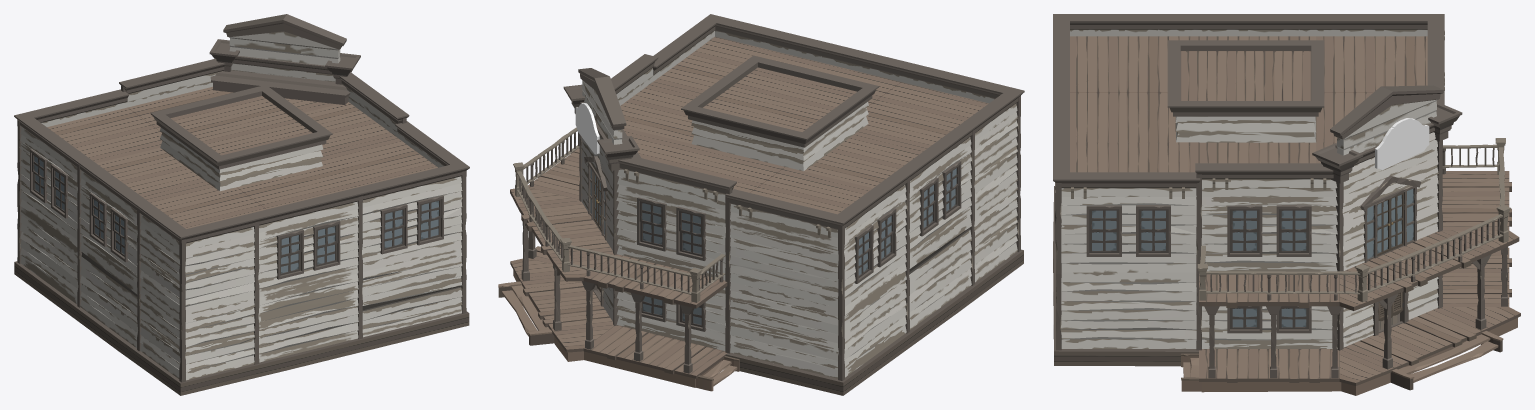
The model's file is Hotel.glb.
The picture shows the model from 3 angles, left to right: view 1: azimuth 30°, elevation 25°; view 2: azimuth 150°, elevation 25°; view 3: azimuth 270°, elevation 25°; orthographic projection. The views are drawn at different scales.
Parts seen in each view (by area): view 1: Hotel, SM_Bld_Saloon_Glass; view 2: Hotel, SM_Bld_Saloon_Glass, SM_Bld_Sign_02; view 3: Hotel, SM_Bld_Saloon_Glass, SM_Bld_Sign_02, SM_Bld_Saloon_UpstairsDoor_02, SM_Bld_Saloon_UpstairsDoor_01_Glass, SM_Bld_Saloon_UpstairsDoor_02_Glass.
Boxes of the visible parts, <box> form: Hotel: <box>14,14,469,395</box>; SM_Bld_Saloon_Glass: <box>34,156,438,273</box>; Hotel: <box>498,14,1024,395</box>; SM_Bld_Saloon_Glass: <box>590,168,956,324</box>; SM_Bld_Sign_02: <box>575,103,599,154</box>; Hotel: <box>1053,14,1520,395</box>; SM_Bld_Saloon_Glass: <box>1092,189,1413,327</box>; SM_Bld_Sign_02: <box>1375,118,1429,170</box>; SM_Bld_Saloon_UpstairsDoor_02: <box>1390,192,1403,250</box>; SM_Bld_Saloon_UpstairsDoor_01_Glass: <box>1377,200,1387,253</box>; SM_Bld_Saloon_UpstairsDoor_02_Glass: <box>1391,194,1401,247</box>.
Size of the model in its own units: 16.68 by 9.91 by 16.66.
Materials: 11 (5 with a texture image).
